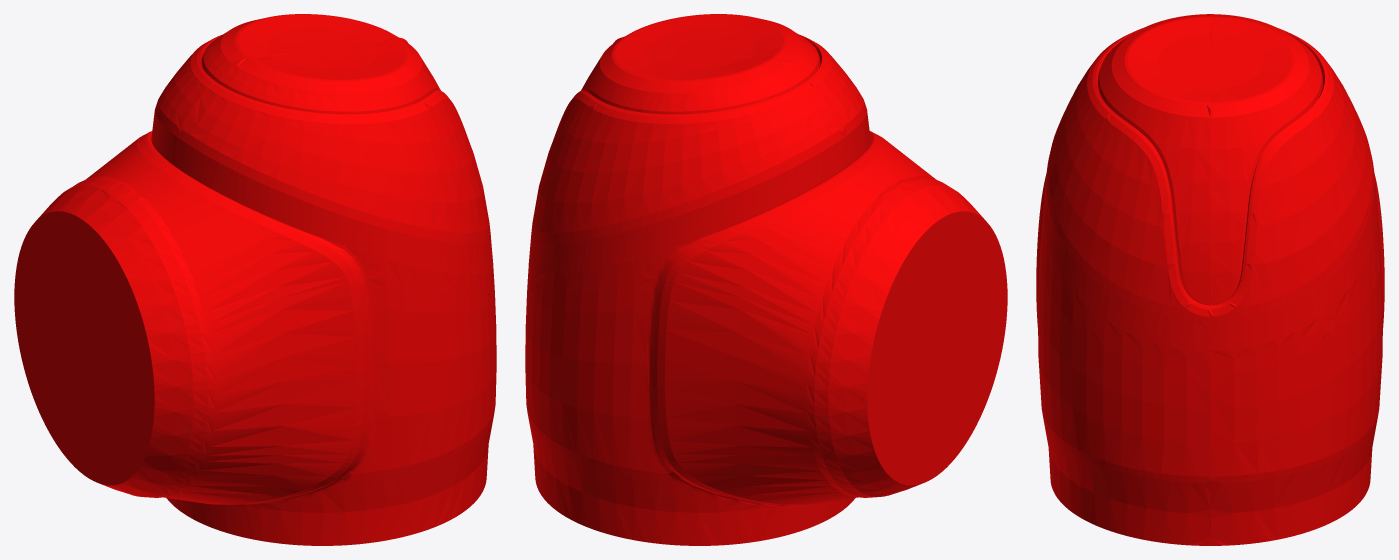
3 renders of one model, left to right at view 1: azimuth 30°, elevation 25°; view 2: azimuth 150°, elevation 25°; view 3: azimuth 270°, elevation 25°, orthographic. The views are drawn at different scales.
Visible parts, largest first — view 1: MF1013_2_2; view 2: MF1013_2_2; view 3: MF1013_2_2.
Boxes of the visible parts, bbox=[...] form: MF1013_2_2: bbox=[14, 14, 496, 545]; MF1013_2_2: bbox=[525, 14, 1007, 545]; MF1013_2_2: bbox=[1036, 14, 1384, 545].
Size of the model in its own units: 179 by 143 by 192.
